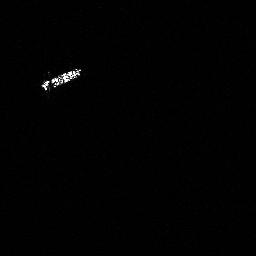ship: (39, 66, 81, 93)
